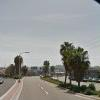Tree: (57, 34, 90, 85)
